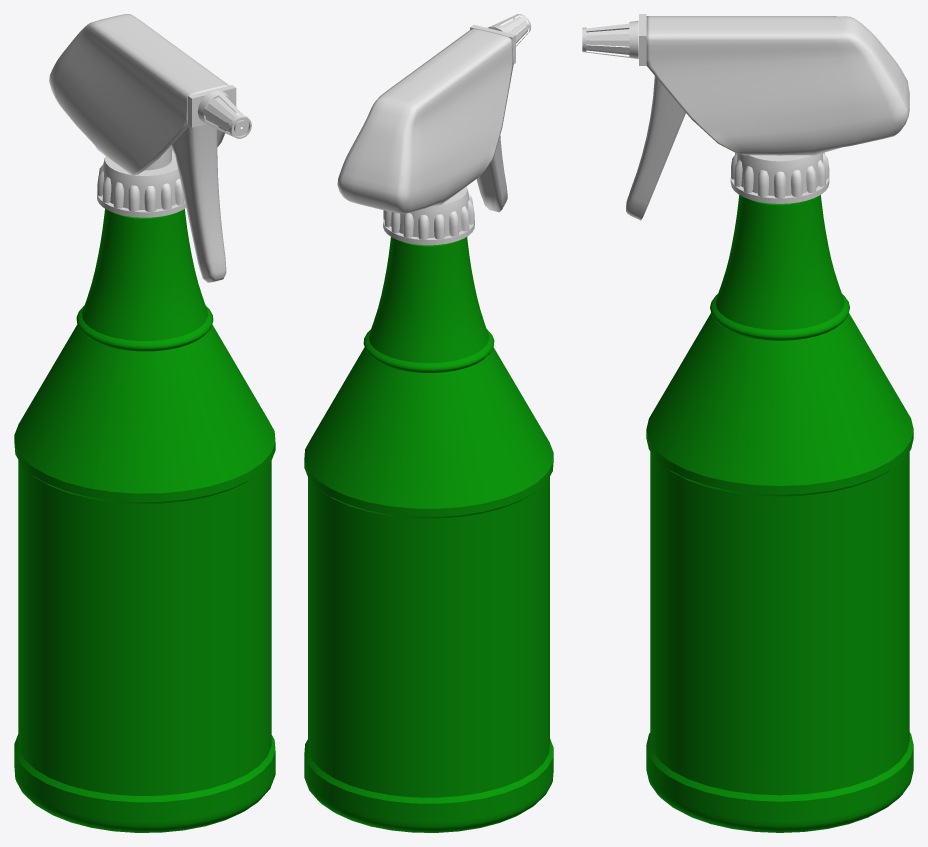
Rendered from sprayBottle.gltf.
3 renders of one model, left to right at view 1: azimuth 30°, elevation 25°; view 2: azimuth 150°, elevation 25°; view 3: azimuth 270°, elevation 25°, orthographic. The views are drawn at different scales.
Parts seen in each view (by area): view 1: bottle_bottle_PLASTIC_green_bottl, head_head_PLASTIC_white, handle_handle, mount_mount_PLASTIC_white, nozzle_nozzle_PLASTIC_white; view 2: bottle_bottle_PLASTIC_green_bottl, head_head_PLASTIC_white, mount_mount_PLASTIC_white, handle_handle, nozzle_nozzle_PLASTIC_white; view 3: bottle_bottle_PLASTIC_green_bottl, head_head_PLASTIC_white, mount_mount_PLASTIC_white, handle_handle, nozzle_nozzle_PLASTIC_white.
Boxes of the visible parts, x1,y1,x2,y2 form: bottle_bottle_PLASTIC_green_bottl: (14,209,275,832); head_head_PLASTIC_white: (49,14,228,175); handle_handle: (170,124,226,282); mount_mount_PLASTIC_white: (97,146,185,217); nozzle_nozzle_PLASTIC_white: (188,85,251,138); bottle_bottle_PLASTIC_green_bottl: (304,237,553,832); head_head_PLASTIC_white: (337,28,513,213); mount_mount_PLASTIC_white: (383,186,474,245); handle_handle: (476,135,507,212); nozzle_nozzle_PLASTIC_white: (470,14,530,64); bottle_bottle_PLASTIC_green_bottl: (646,195,913,832); head_head_PLASTIC_white: (646,16,909,155); mount_mount_PLASTIC_white: (730,152,829,203); handle_handle: (626,76,685,220); nozzle_nozzle_PLASTIC_white: (582,14,646,65).
Size of the model in its own units: 0.0938 by 0.2937 by 0.1162.
